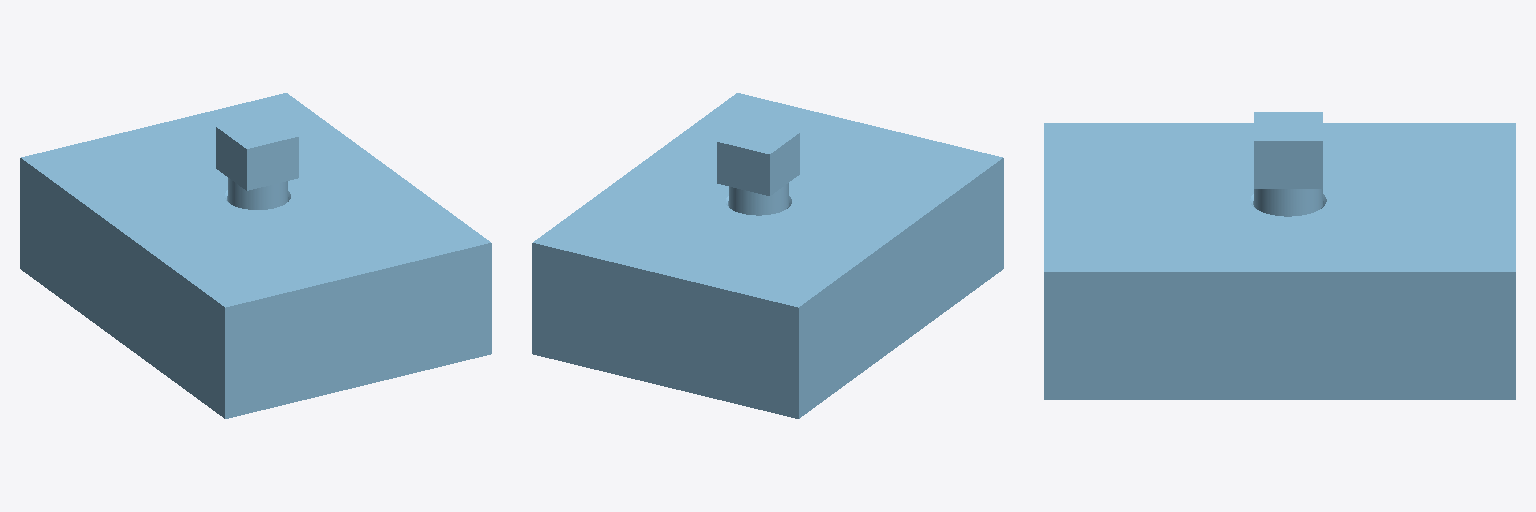
The robot description file, URDF, robot "assembly_1":
<!--URDF generated by ONSHAPE BY PTC INC, 1.224-->
<robot name="assembly_1">
    <link name="part_1">
        <inertial>
            <mass value="3.05703e-05" />
            <origin xyz="-4.80128e-19 9.97558e-19 0.0106525" rpy="0 -0 0" />
            <inertia ixx="9.87641e-09" ixy="0" ixz="0" iyy="9.87641e-09" iyz="0" izz="2.69569e-09" />
        </inertial>
        <visual>
            <origin xyz="-1.19993e-18 1.58264e-18 0.01855" rpy="0 -0 0" />
            <geometry>
                <mesh filename="package://assembly_1/meshes/Part_1.stl" scale="1 1 1" />
            </geometry>
            <material name="0.615686_0.811765_0.929412_0.000000_0.000000">
                <color rgba="0.615686 0.811765 0.929412 1" />
            </material>
        </visual>
    </link>
    <link name="part_1_1">
        <inertial>
            <mass value="0.00106196" />
            <origin xyz="-6.36e-05 -7.33846e-05 0.025399" rpy="0 -0 0" />
            <inertia ixx="2.816e-06" ixy="2.09116e-10" ixz="2.7543e-12" iyy="1.68226e-06" iyz="3.17804e-12" izz="4.04154e-06" />
        </inertial>
        <visual>
            <origin xyz="0 0 0" rpy="0 -0 0" />
            <geometry>
                <mesh filename="package://assembly_1/meshes/Part_1_1.stl" scale="1 1 1" />
            </geometry>
            <material name="0.615686_0.811765_0.929412_0.000000_0.000000">
                <color rgba="0.615686 0.811765 0.929412 1" />
            </material>
        </visual>
    </link>
    <link name="root" />
    <joint name="hanging_node_to_root_joint" type="fixed">
        <origin xyz="0.120116 0.0334169 -0.0610094" rpy="0 -0 0" />
        <axis xyz="0 0 1" />
        <parent link="root" />
        <child link="part_1_1" />
    </joint>
    <joint name="slider_1" type="prismatic">
        <origin xyz="0.00261972 0.00302276 0.0425105" rpy="0 -0 0" />
        <axis xyz="0 0 1" />
        <parent link="part_1_1" />
        <child link="part_1" />
        <limit effort="1" velocity="1" lower="-10000" upper="10000" />
    </joint>
</robot>

--- What the picture shows (computed from the rendered views, not written in the file) ---
Views: 3 orthographic renders of the robot side by side, from view 1: azimuth 30°, elevation 25°; view 2: azimuth 150°, elevation 25°; view 3: azimuth 270°, elevation 25°.
Model assembly_1 with 3 links and 2 joints (1 prismatic, 1 fixed), rooted at root, posed all joints at 0.
Visible links, largest first — view 1: part_1_1, part_1; view 2: part_1_1, part_1; view 3: part_1_1, part_1.
Boxes of the visible links, x1=… form: part_1_1: x1=20, y1=93, x2=491, y2=418; part_1: x1=216, y1=114, x2=298, y2=209; part_1_1: x1=532, y1=93, x2=1003, y2=418; part_1: x1=717, y1=120, x2=799, y2=215; part_1_1: x1=1044, y1=123, x2=1515, y2=399; part_1: x1=1254, y1=112, x2=1322, y2=216.
Size in the robot's own frame: 0.1267 by 0.169 by 0.0801 metres.
Meshes: 2 distinct files referenced, 2 mesh visuals loaded (2 binary STL).
